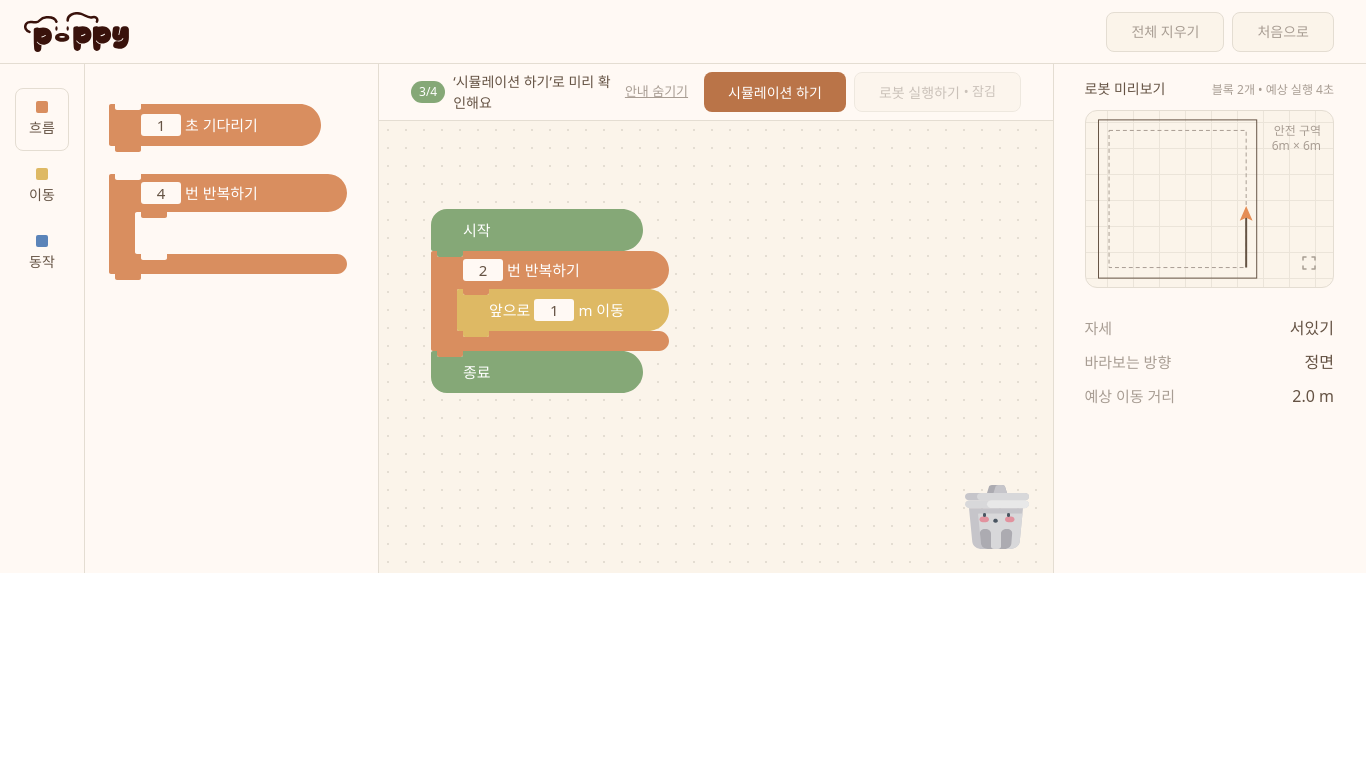
Test: ExperienceView › 블록을 바꾸면 헤더에 자동 저장 상태가 뜬다
Replace the text in the number field named "반복 횟수" with "3" at coordinates (483, 270), box left=463, top=259, right=503, bottom=281
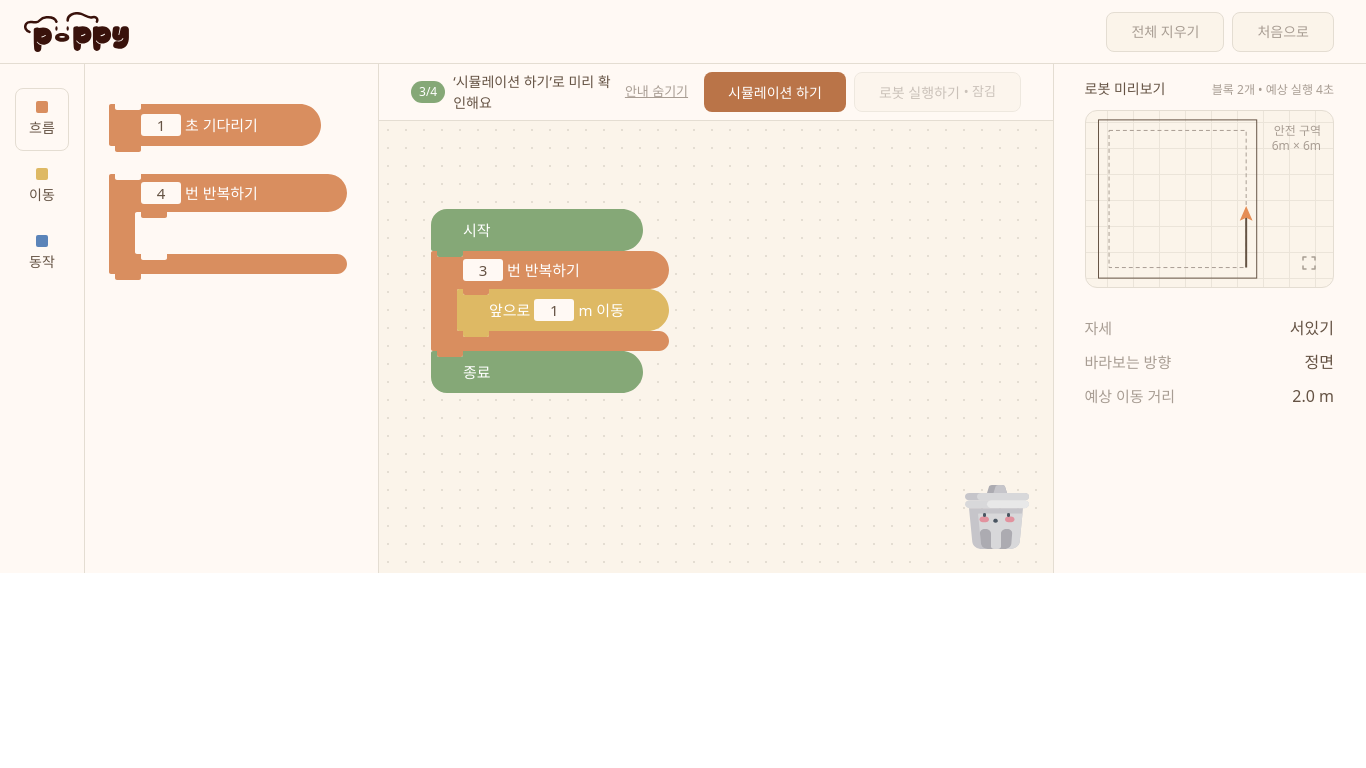
Leave the number field named "반복 횟수", box left=463, top=259, right=503, bottom=281
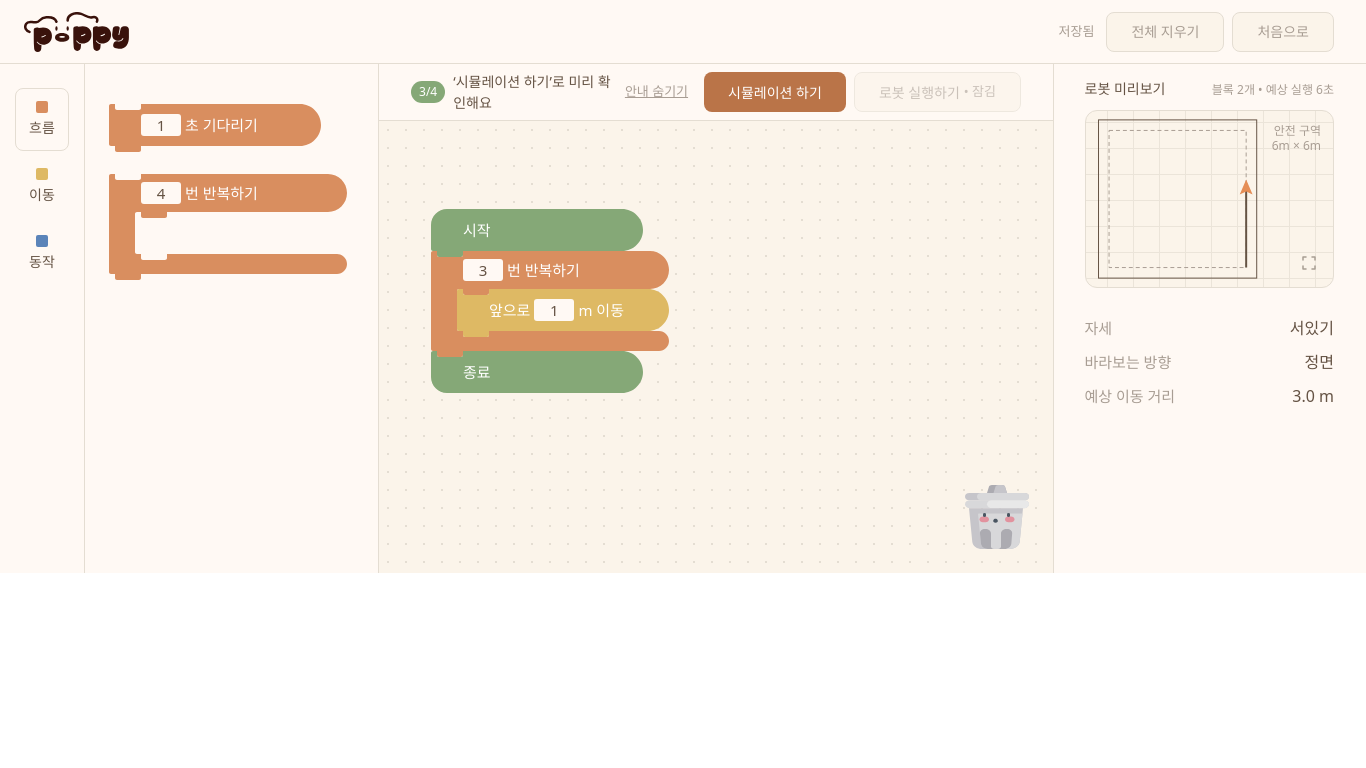
expect the text "저장됨" is shown: met, box left=1058, top=22, right=1094, bottom=41
